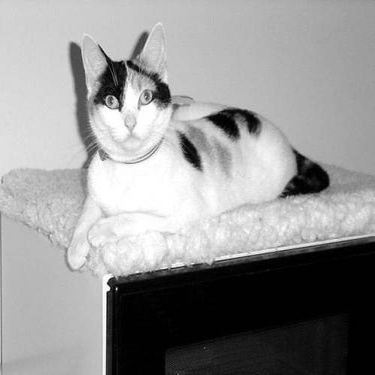cat: (26, 9, 340, 278)
